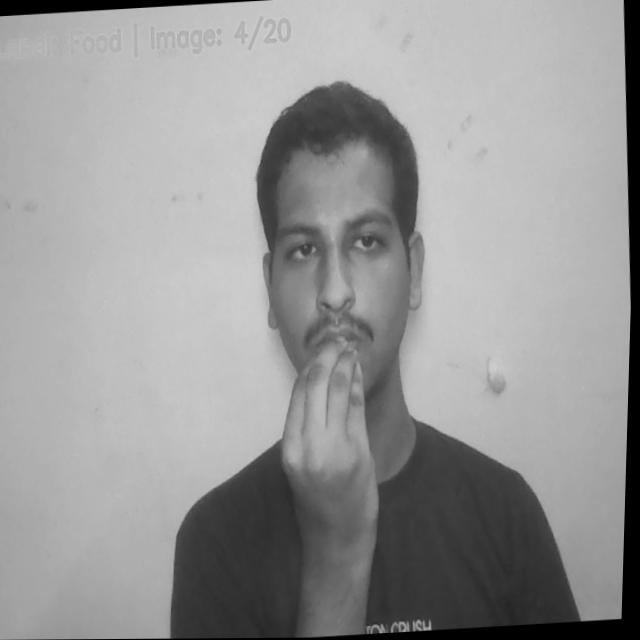Food: (274, 336, 393, 624)
